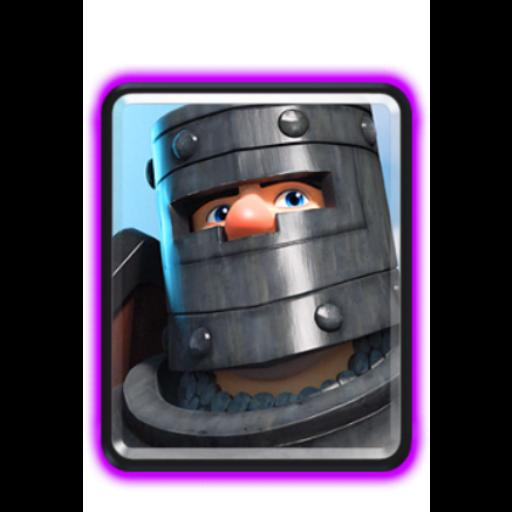dark-prince: (116, 102, 392, 448)
